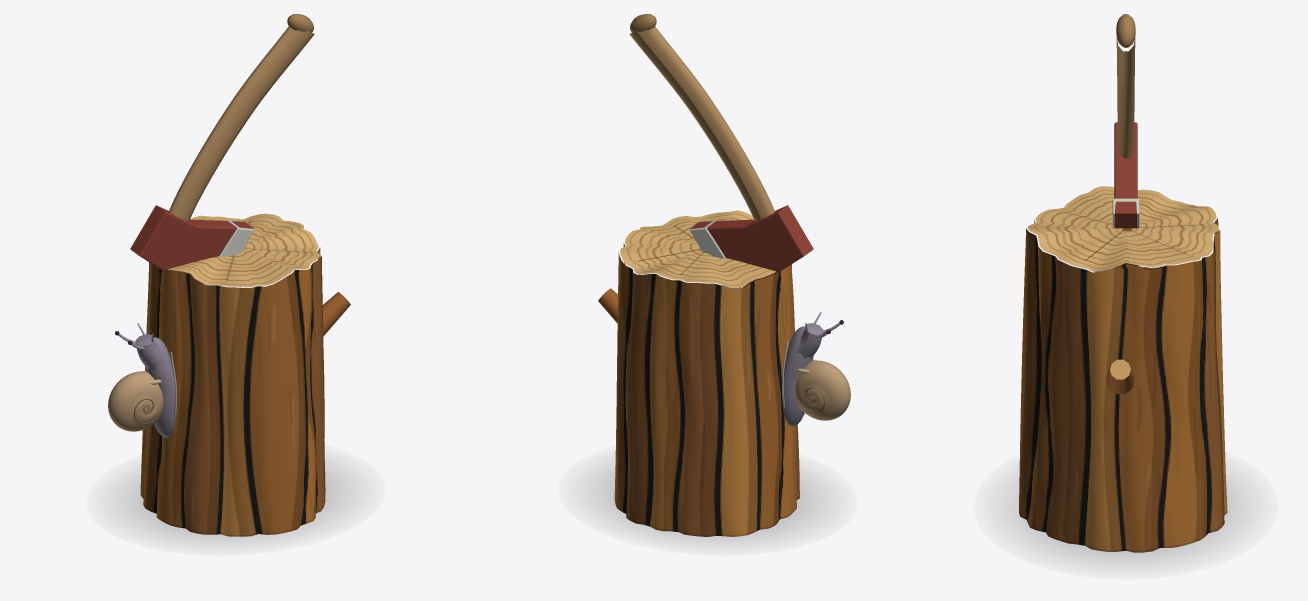
File: props_p3_beach__p3_stump.glb
The picture shows the model from 3 angles, left to right: view 1: azimuth 30°, elevation 25°; view 2: azimuth 150°, elevation 25°; view 3: azimuth 270°, elevation 25°; orthographic projection. The views are drawn at different scales.
Visible parts, largest first — view 1: stump_trunk, stump_top, axe_handle, axe_head, continuous_shell_whorls, shadow, continuous_foot, stump_branch, axe_edge, raised_neck; view 2: stump_trunk, stump_top, axe_handle, axe_head, continuous_shell_whorls, shadow, continuous_foot, axe_edge, raised_neck; view 3: stump_trunk, stump_top, shadow, axe_handle, axe_head, stump_branch, axe_butt.
Boxes of the visible parts, x1,y1,x2,y2 form: stump_trunk: (140,247,325,536); stump_top: (168,213,320,287); axe_handle: (168,26,314,221); axe_head: (130,205,253,283); continuous_shell_whorls: (108,371,163,431); shadow: (126,467,345,539); continuous_foot: (145,337,175,437); stump_branch: (322,292,350,336); axe_edge: (203,220,254,286); raised_neck: (135,334,161,369); stump_trunk: (614,243,799,536); stump_top: (620,210,775,287); axe_handle: (629,26,775,221); axe_head: (690,205,813,287); continuous_shell_whorls: (795,360,850,420); shadow: (598,470,817,539); continuous_foot: (783,326,813,426); axe_edge: (689,220,742,288); raised_neck: (797,323,823,358); stump_trunk: (1019,218,1227,552); stump_top: (1027,186,1218,271); shadow: (1014,484,1237,559); axe_handle: (1116,38,1135,158); axe_head: (1114,122,1137,267); stump_branch: (1106,359,1134,393); axe_butt: (1116,14,1135,47).
Size of the model in its own units: 0.68 by 1.04 by 0.6.
19 materials, 3 textured.
